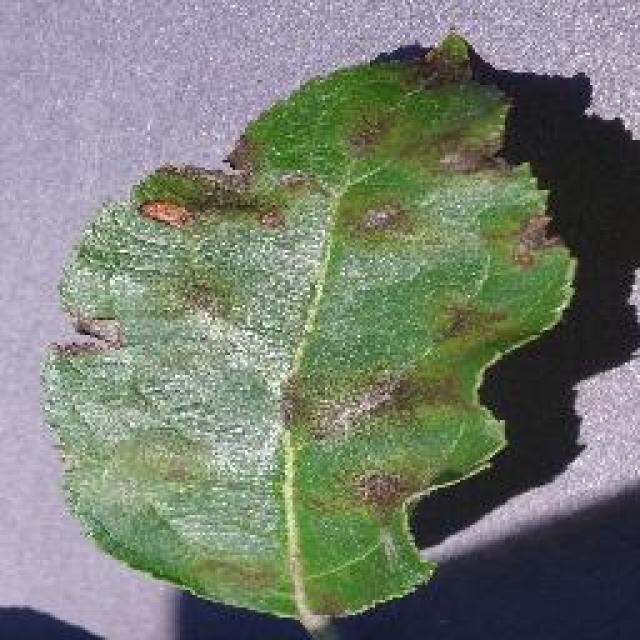apple scab disease: (35, 30, 587, 625)
